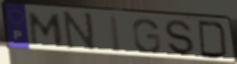D: (196, 19, 230, 61)
G: (131, 18, 163, 55)
I: (108, 14, 124, 54)
M: (28, 11, 65, 47)
N: (63, 10, 98, 54)
S: (164, 19, 196, 58)
